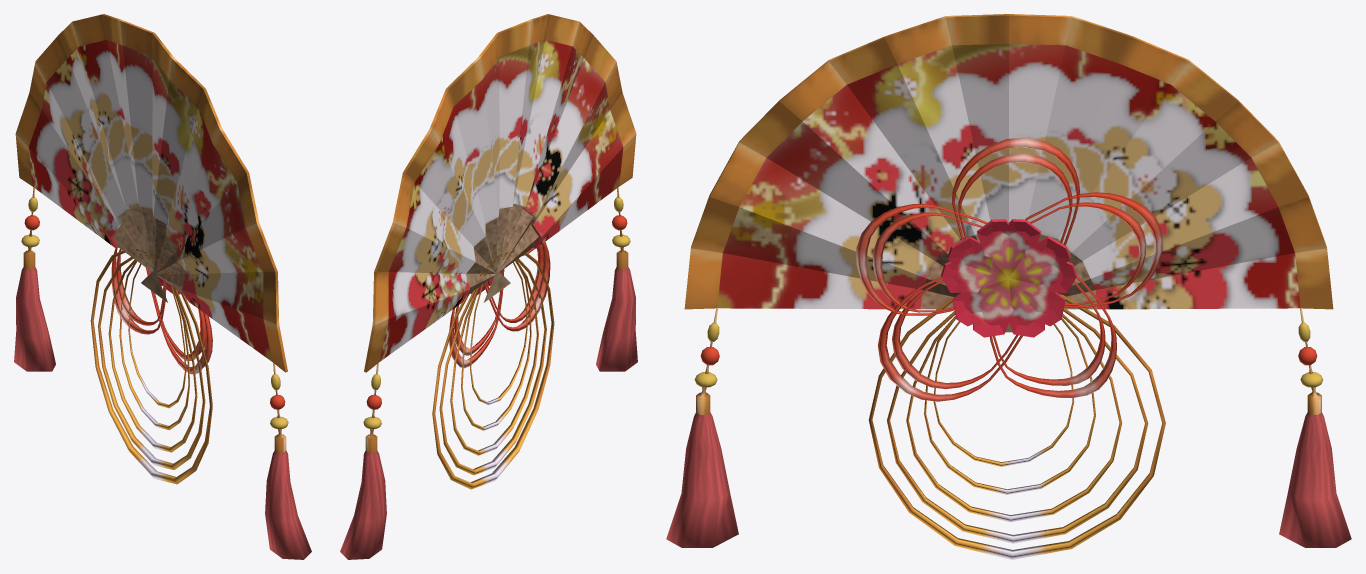
File: WandObject_3d_009.fbx
The picture shows the model from 3 angles, left to right: view 1: azimuth 30°, elevation 25°; view 2: azimuth 150°, elevation 25°; view 3: azimuth 270°, elevation 25°; orthographic projection. The views are drawn at different scales.
Visible parts, largest first — view 1: Circle; view 2: Circle; view 3: Circle.
Boxes of the visible parts, left/top/right/bottom form: Circle: left=14, top=14, right=311, bottom=559; Circle: left=340, top=14, right=637, bottom=559; Circle: left=666, top=14, right=1351, bottom=559.
Bounding box in the file's own units: 0.3354 × 4.39 × 5.01.
